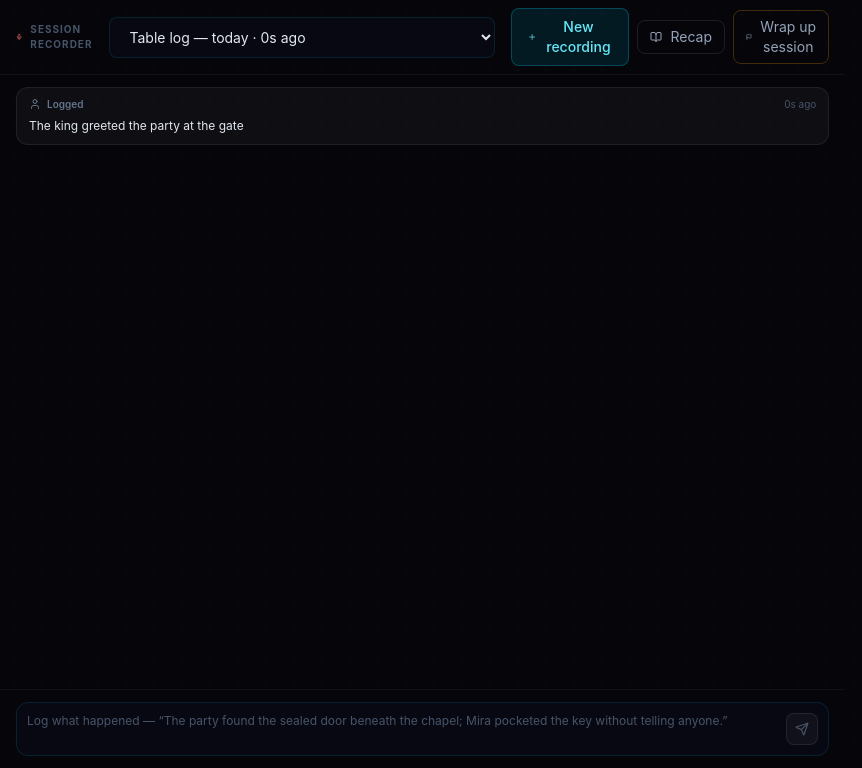
it: SessionRecorder live contradiction alerts (P1.1) › renders an amber alert card under the entry when a contradiction is found
Type "The king greeted the party at the gate" into the text box with placeholder "Log what happened" at {"x": 403, "y": 729}, box [27, 713, 778, 745]
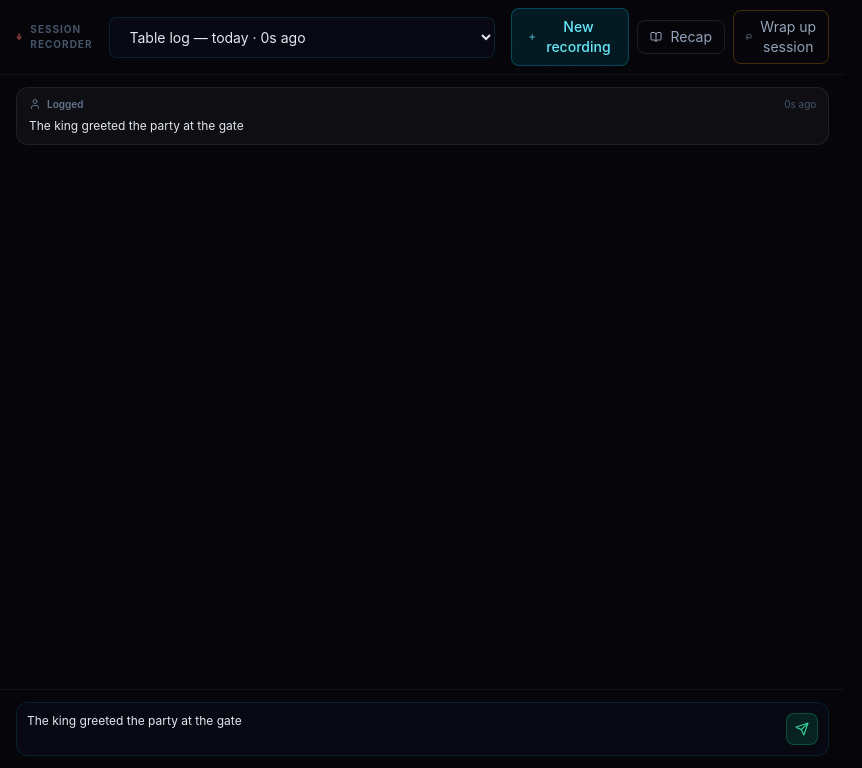
Click the button named "Log entry" at {"x": 802, "y": 729}, box [786, 713, 818, 745]
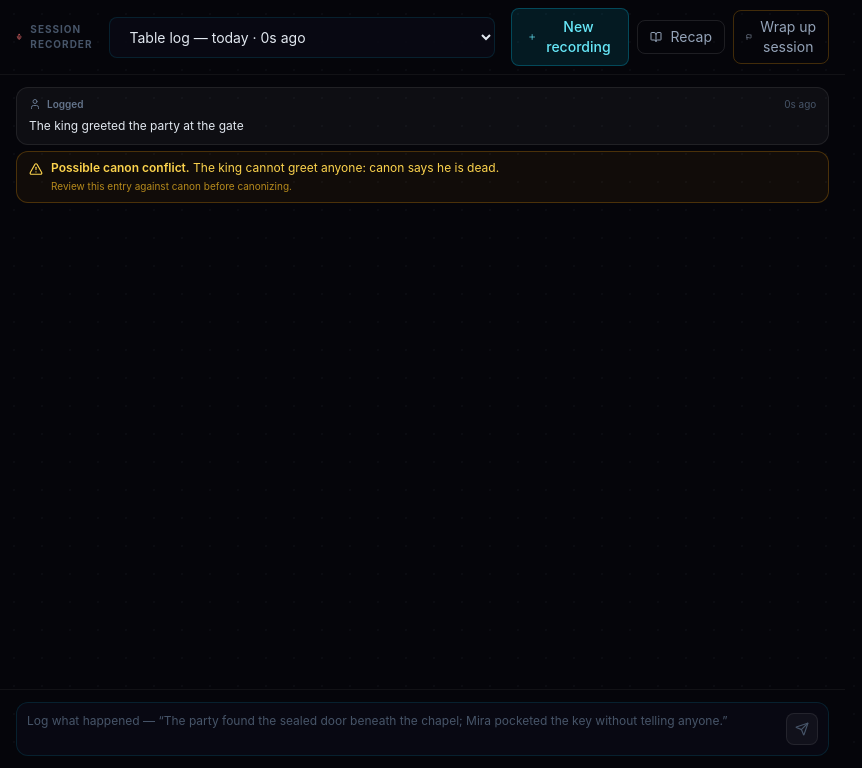
Expected: the element with test id "contradiction-alert" shows "Possible canon conflict.", [51, 160, 190, 175]
Expected: the element with test id "contradiction-alert" shows "The king cannot greet anyone: canon says he is dead.", [193, 160, 499, 175]
